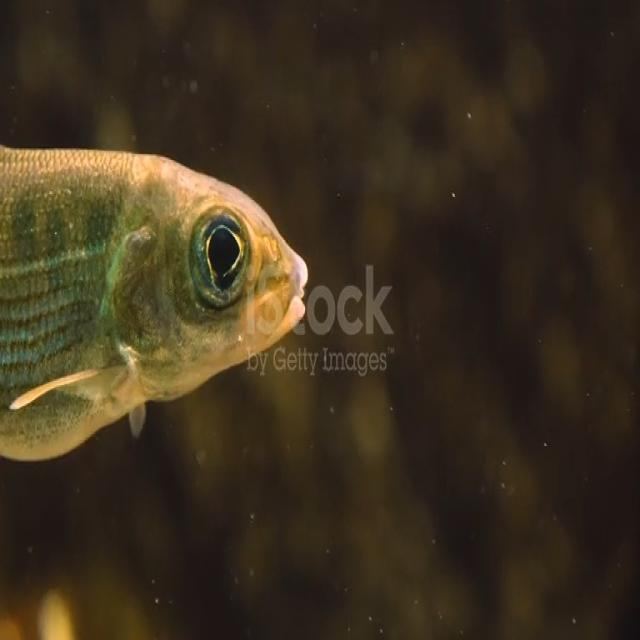fish: (1, 139, 312, 471)
